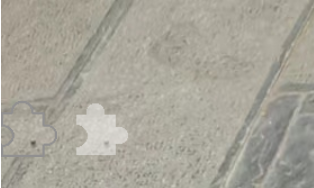target: (71, 101, 133, 160)
